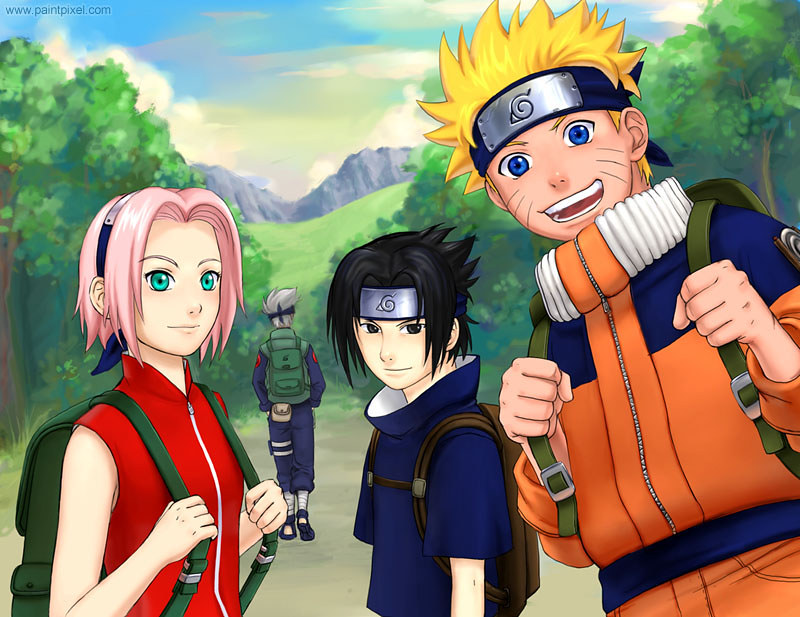naruto: (468, 61, 651, 236)
sakura: (87, 187, 236, 361)
sasuke: (349, 281, 463, 391)
